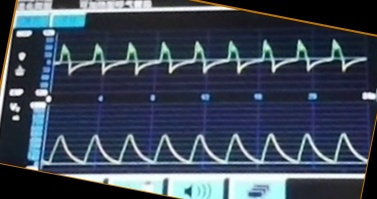Accumulation Flow: (57, 33, 357, 87)
Volume: (48, 124, 363, 171)
